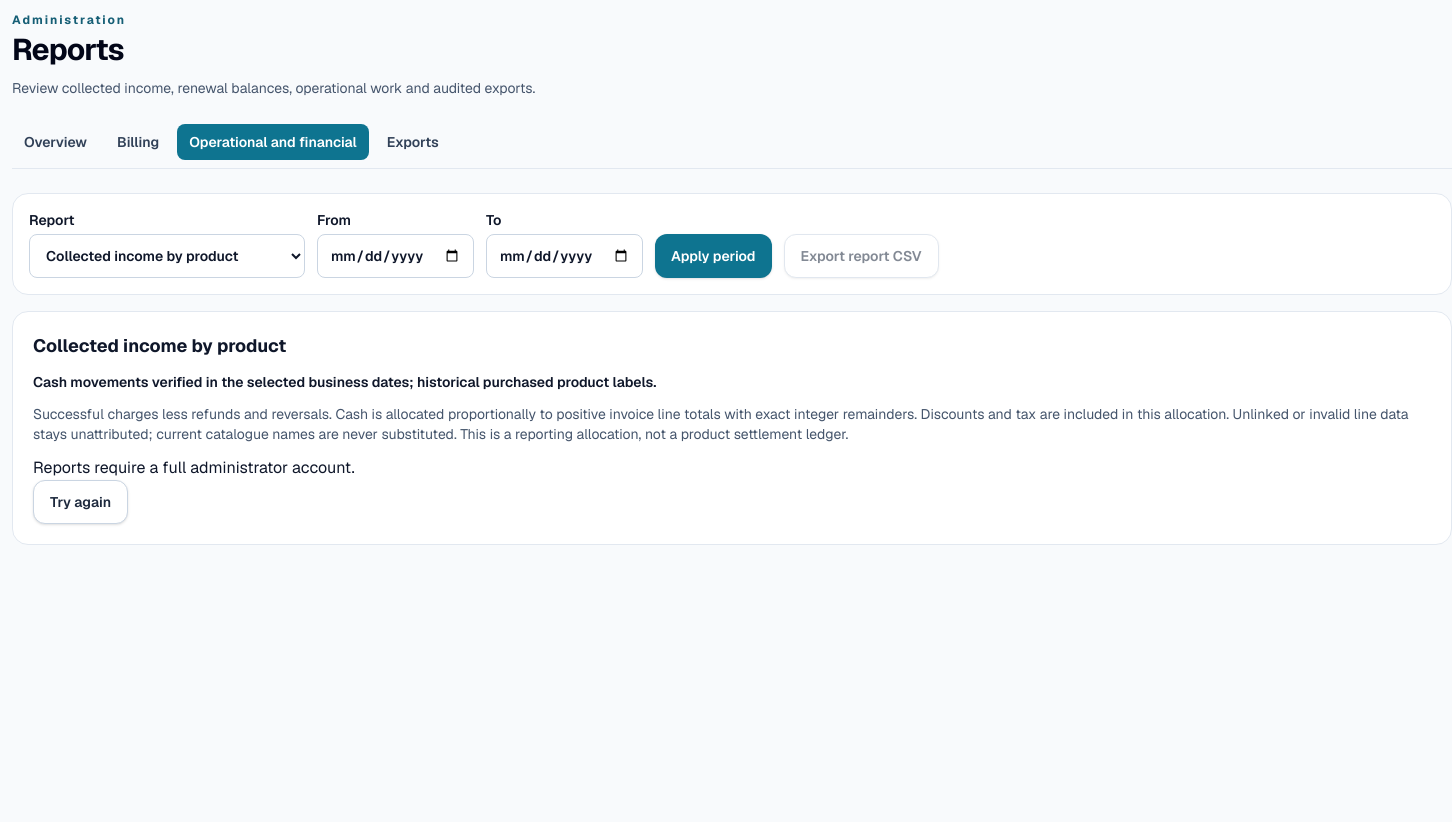
fails visibly without leaving an old report exportable and retries
The width and height of the screenshot is (1452, 822).
Expected: the message shows "full administrator", [33,457,355,478]
Expected: the button "Export report CSV" is disabled, [784,234,939,278]
Click the button "Try again" at [81, 502], box [33,480,128,524]
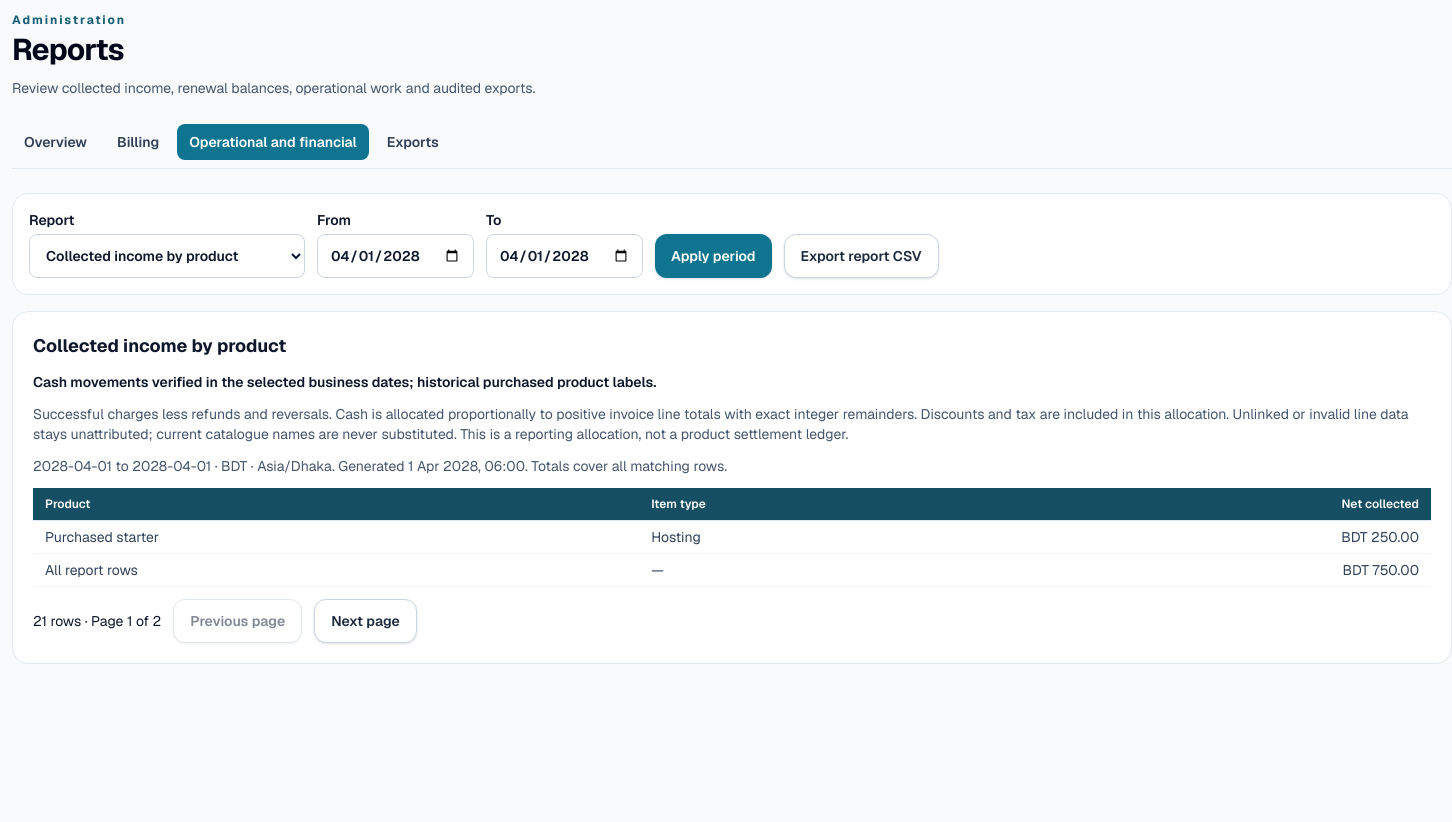
Expected: the text "Purchased starter" is shown, [33,521,639,554]
